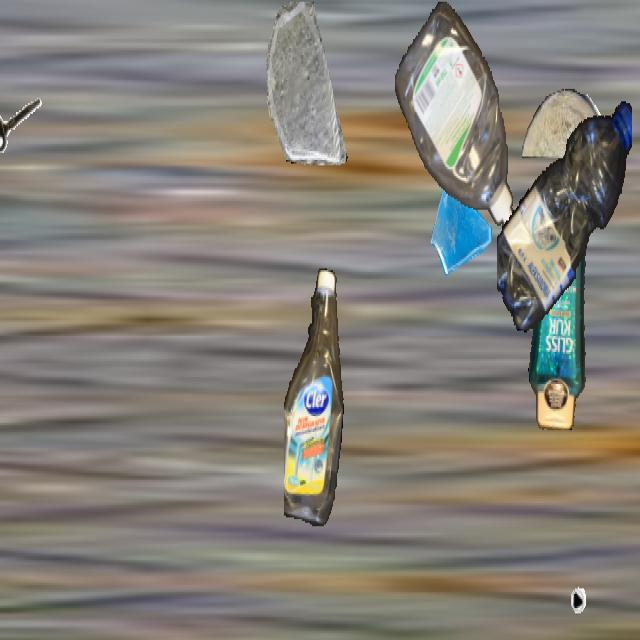glass: (261, 2, 353, 165), (429, 167, 495, 285)
metal: (533, 516, 593, 622), (0, 74, 45, 178)
plastic: (497, 89, 631, 338), (395, 2, 515, 233), (524, 176, 596, 428), (284, 268, 344, 524)
wood: (522, 89, 606, 156)
